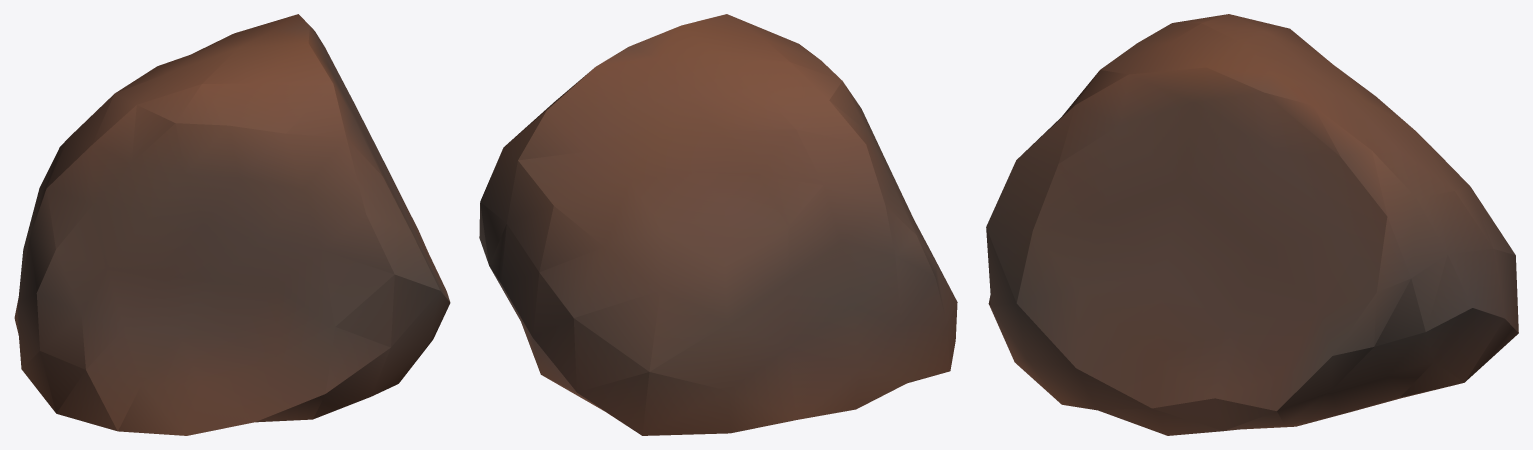
Rendered from rock_small_03.glb.
3 renders of one model, left to right at view 1: azimuth 30°, elevation 25°; view 2: azimuth 150°, elevation 25°; view 3: azimuth 270°, elevation 25°, orthographic. The views are drawn at different scales.
Parts seen in each view (by area): view 1: rock; view 2: rock; view 3: rock.
Part boxes in pixels (x1,y1,x2,y2): rock: (14, 14, 450, 435); rock: (479, 14, 957, 435); rock: (986, 14, 1518, 435).
Size of the model in its own units: 0.4386 by 0.3025 by 0.45.
